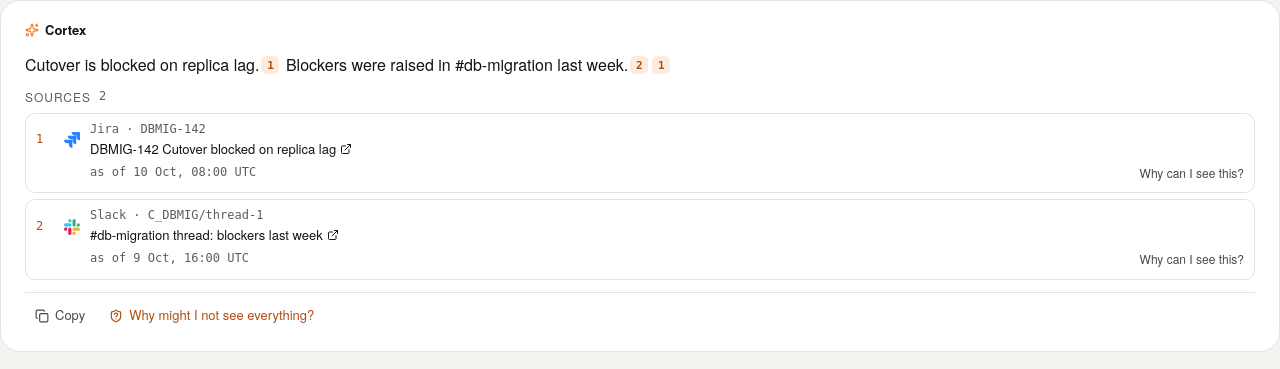
Test: AnswerCard › shows the source excerpt when a citation marker gets focus
Focus the button named "Source 1:": x=270, y=65 [262,56,280,74]
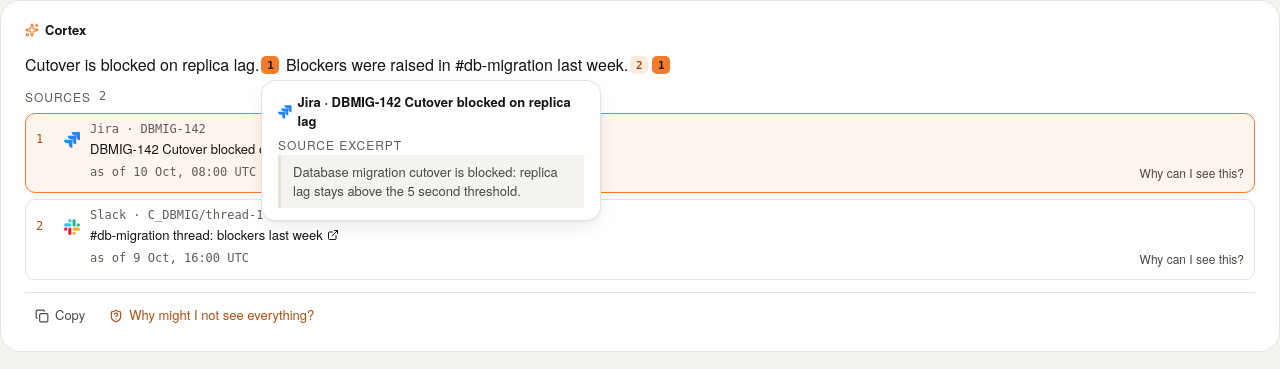
expect the tooltip shows "replica lag stays above the 5 second threshold": met, box [293,162,558,200]
